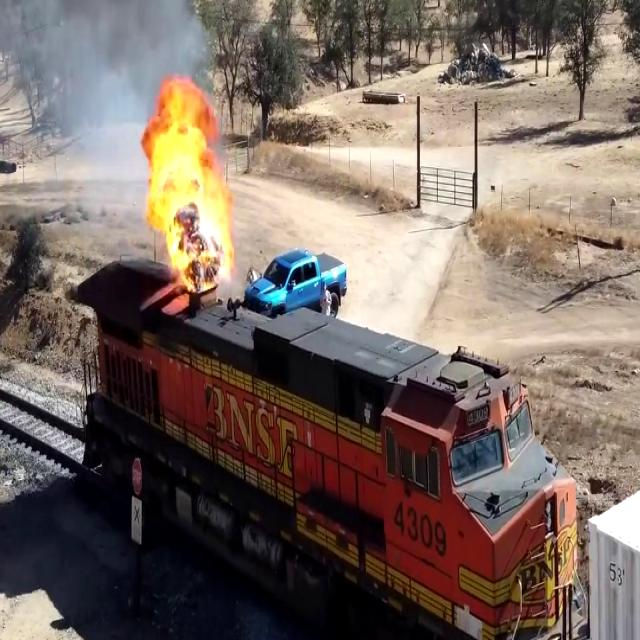fire: (144, 78, 239, 282)
